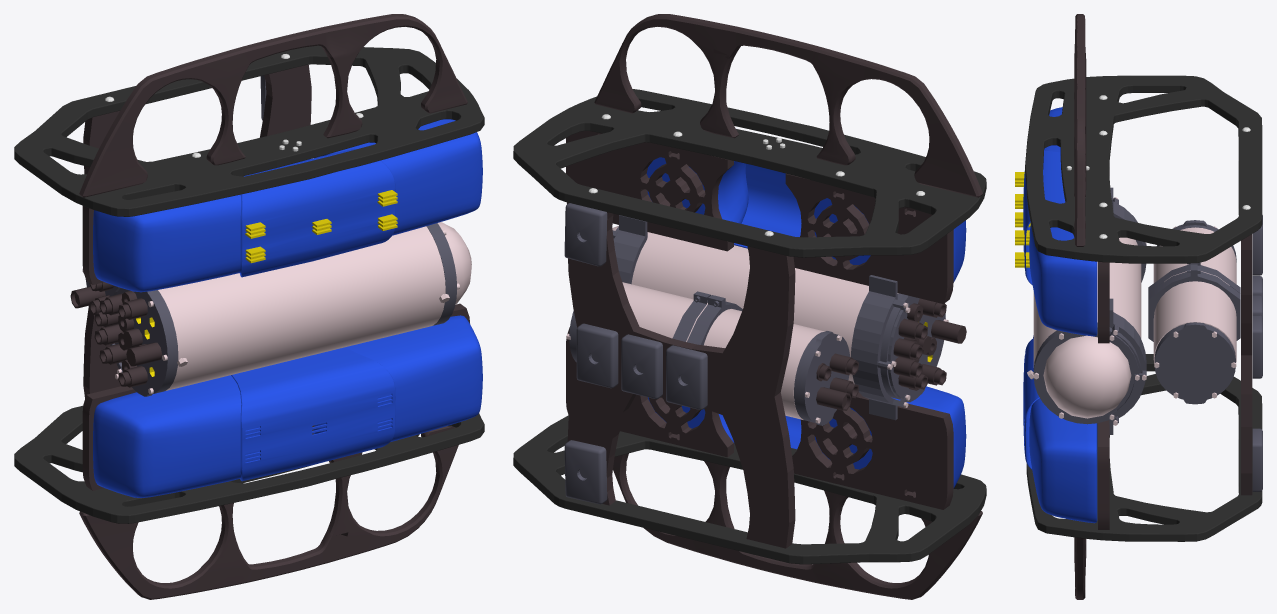
The model's file is bluerov2_heavy_chassis.visual.glb.
3 views of the same model, side by side, from view 1: azimuth 30°, elevation 25°; view 2: azimuth 150°, elevation 25°; view 3: azimuth 270°, elevation 25° (orthographic). The views are drawn at different scales.
Parts seen in each view (by area): view 1: Frame.001, CUTTER-Fairing; view 2: Frame.001; view 3: Frame.001, CUTTER-Fairing.
Part boxes in pixels (<box>): Frame.001: <box>14,14,484,599</box>; CUTTER-Fairing: <box>245,190,397,263</box>; Frame.001: <box>513,14,986,599</box>; Frame.001: <box>1023,14,1262,599</box>; CUTTER-Fairing: <box>1015,172,1030,267</box>.
Bounding box in the file's own units: 0.4571 × 0.5728 × 0.2653.
